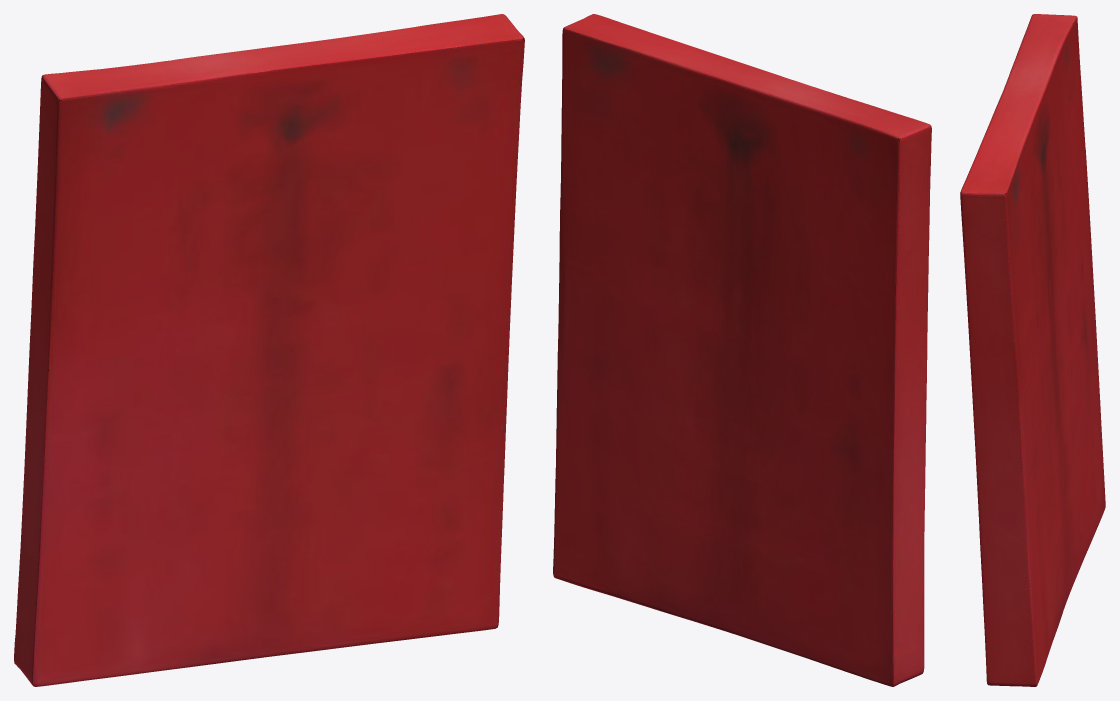
Rendered from red_paper_poster_on_wall_000.glb.
The picture shows the model from 3 angles, left to right: view 1: azimuth 30°, elevation 25°; view 2: azimuth 150°, elevation 25°; view 3: azimuth 270°, elevation 25°; orthographic projection. The views are drawn at different scales.
Parts seen in each view (by area): view 1: red_paper_poster_on_wall_000.obj; view 2: red_paper_poster_on_wall_000.obj; view 3: red_paper_poster_on_wall_000.obj.
Boxes of the visible parts, x1=… form: red_paper_poster_on_wall_000.obj: x1=14, y1=14, x2=524, y2=686; red_paper_poster_on_wall_000.obj: x1=553, y1=14, x2=931, y2=686; red_paper_poster_on_wall_000.obj: x1=960, y1=14, x2=1105, y2=686.
Size of the model in its own units: 0.1517 by 0.2026 by 0.0526.
1 material, 1 textured.
